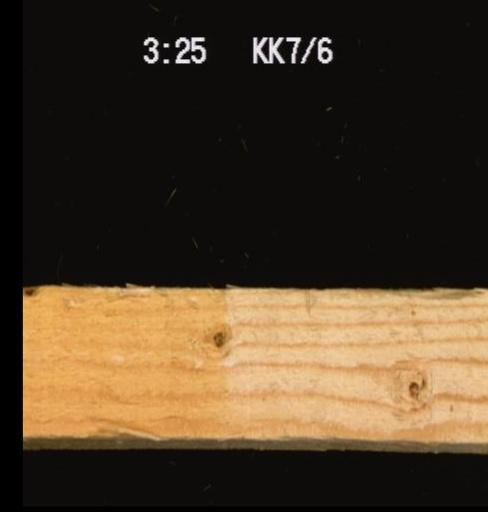edge_knot: (22, 283, 38, 301)
small_knot: (386, 355, 437, 418), (196, 318, 236, 361)
